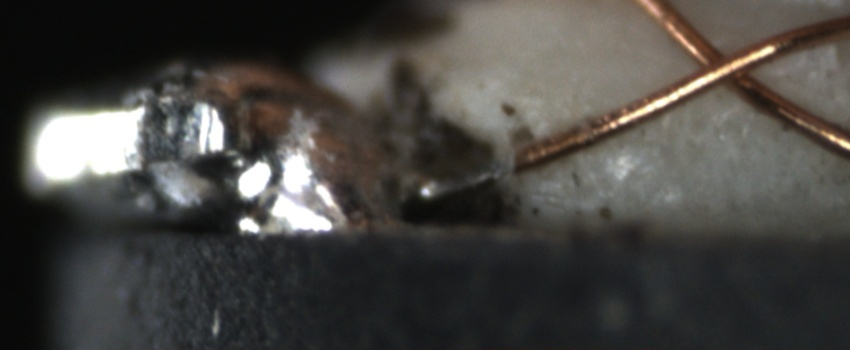CL: (678, 29, 772, 100)
TS: (400, 155, 518, 206)
TTCW: (412, 119, 592, 209)
